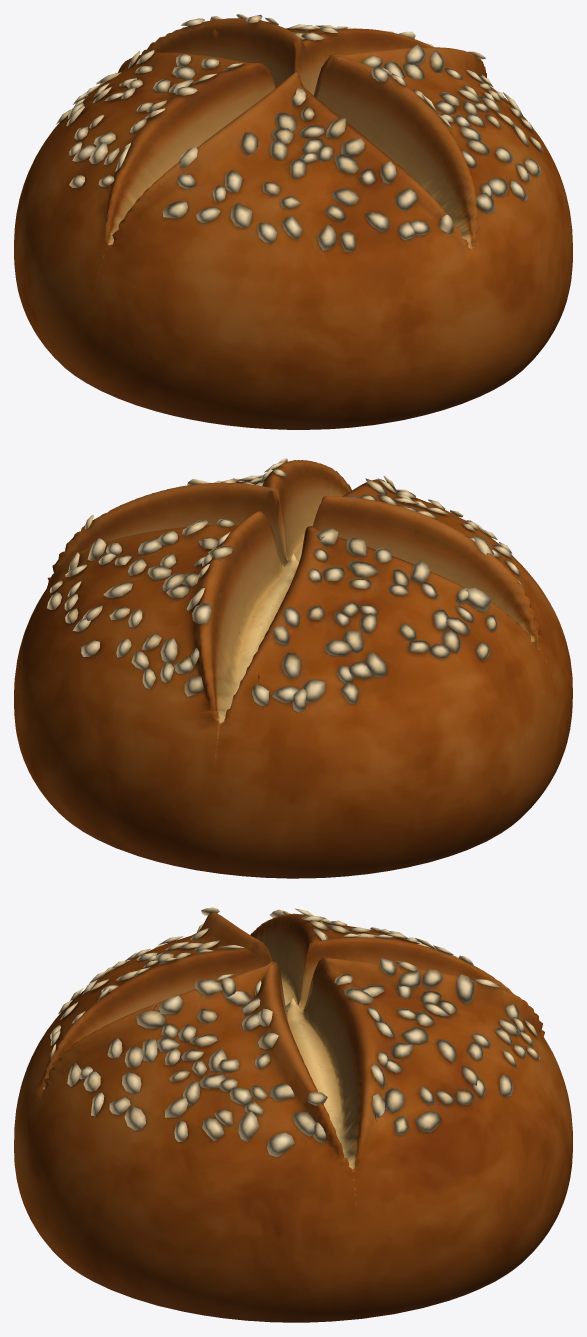
Rendered from campagne--oat-flake.glb.
3 renders of one model, top to bottom at view 1: azimuth 30°, elevation 25°; view 2: azimuth 150°, elevation 25°; view 3: azimuth 270°, elevation 25°, orthographic.
Visible parts, largest first — view 1: campagne_oat-flake; view 2: campagne_oat-flake; view 3: campagne_oat-flake.
Boxes of the visible parts, left/top/right/bottom form: campagne_oat-flake: left=14, top=14, right=572, bottom=429; campagne_oat-flake: left=14, top=458, right=572, bottom=878; campagne_oat-flake: left=14, top=907, right=572, bottom=1322.
Size of the model in its own units: 0.9988 by 0.5308 by 0.9991.
Materials: 1 (1 with a texture image).
